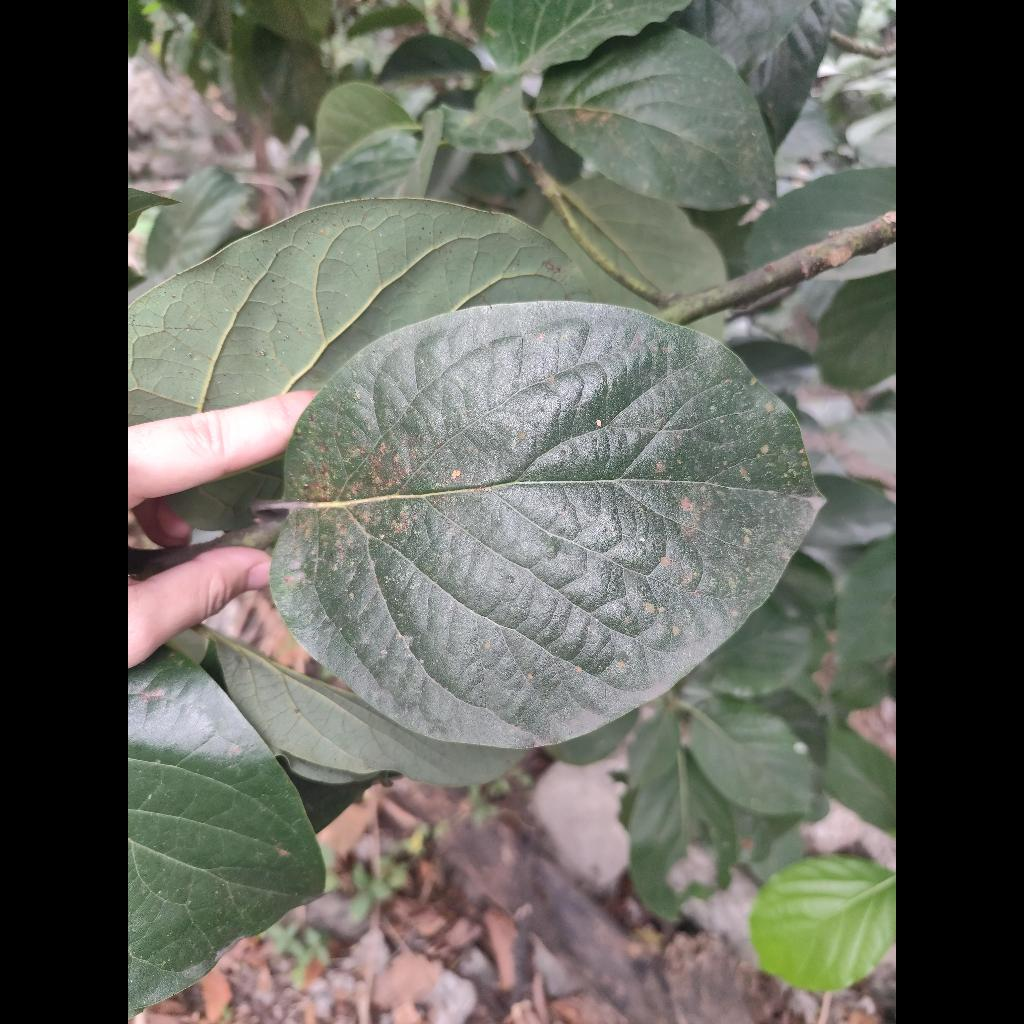Anthracnose: (273, 302, 820, 748)
